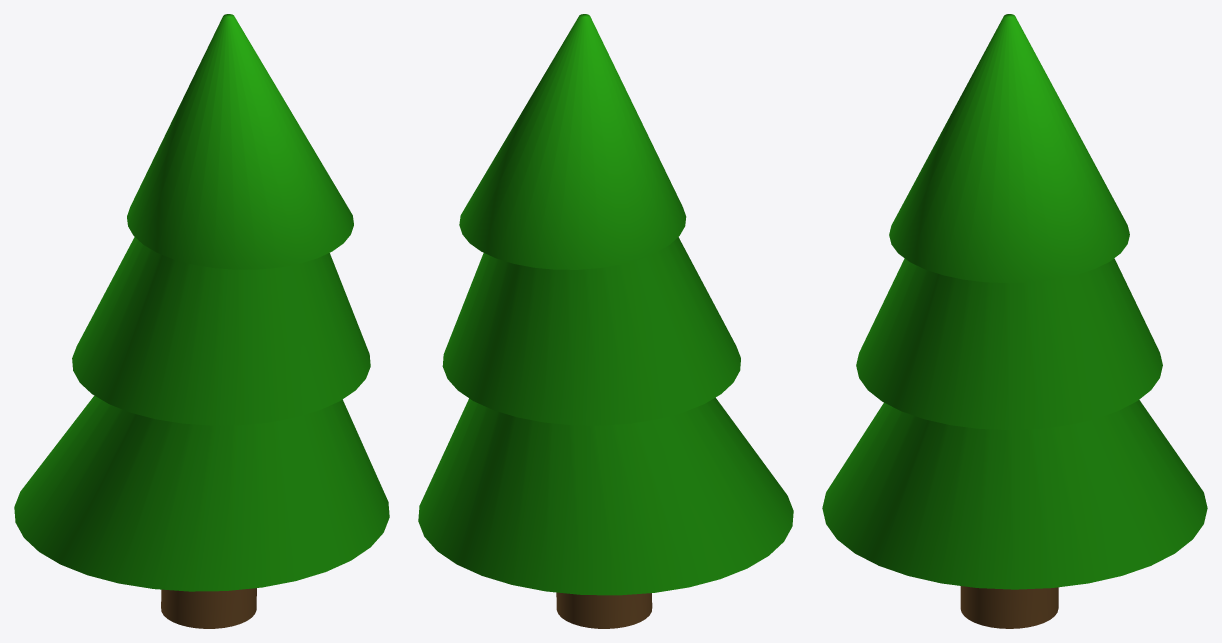
The model's file is Arbol_vivo1.fbx.
The picture shows the model from 3 angles, left to right: view 1: azimuth 30°, elevation 25°; view 2: azimuth 150°, elevation 25°; view 3: azimuth 270°, elevation 25°; orthographic projection. The views are drawn at different scales.
Parts seen in each view (by area): view 1: Pino.003; view 2: Pino.003; view 3: Pino.003.
Part boxes in pixels (box(x1,y1,x2,y2)): Pino.003: box(14, 14, 389, 628); Pino.003: box(418, 14, 793, 628); Pino.003: box(822, 14, 1207, 628).
Size of the model in its own units: 175 by 301 by 175.
